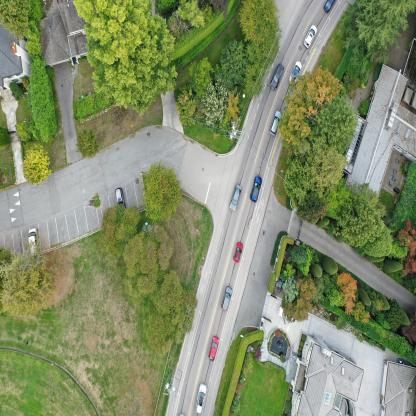Coniferous Tree: (130, 214, 172, 302), (342, 0, 416, 48), (0, 251, 55, 309), (154, 281, 198, 347), (285, 152, 337, 206), (333, 191, 382, 243), (142, 159, 178, 225), (238, 1, 278, 56), (314, 110, 355, 154), (96, 218, 132, 258), (219, 43, 244, 88), (243, 53, 263, 98)
Deciduous Tree: (70, 0, 181, 98), (283, 64, 345, 148), (19, 146, 51, 180), (338, 270, 356, 317)
